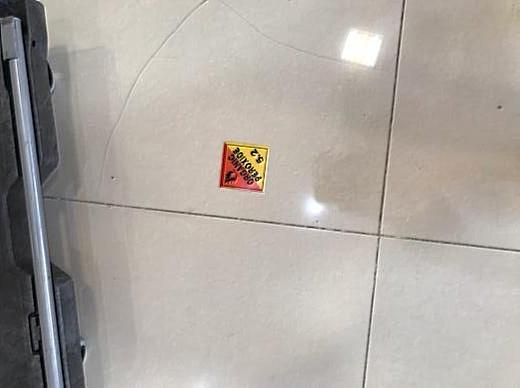organic-peroxide: (221, 143, 268, 193)
